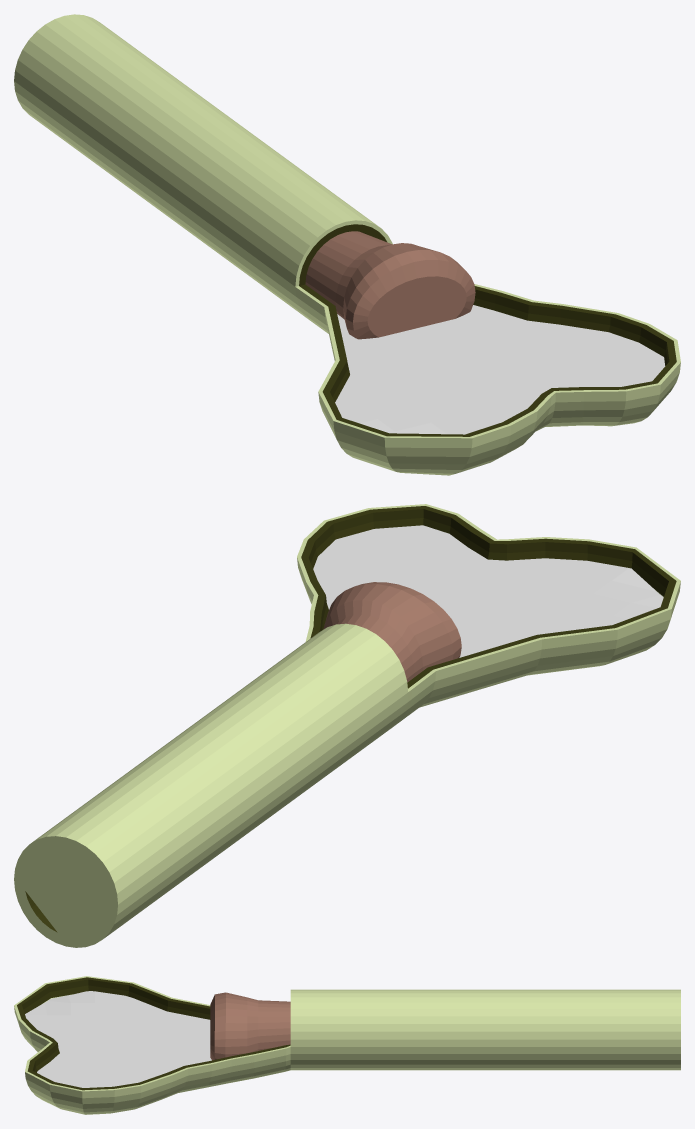
The model's file is BoneMarrow.glb.
3 renders of one model, top to bottom at view 1: azimuth 30°, elevation 25°; view 2: azimuth 150°, elevation 25°; view 3: azimuth 270°, elevation 25°, orthographic. The views are drawn at different scales.
Parts seen in each view (by area): view 1: Cylinder, Plane.001, Cylinder.001; view 2: Cylinder, Plane.001, Cylinder.001; view 3: Cylinder, Plane.001, Cylinder.001.
Part boxes in pixels (x1,y1,x2,y2): Cylinder: [14, 14, 680, 475]; Plane.001: [335, 305, 665, 434]; Cylinder.001: [305, 231, 475, 339]; Cylinder: [14, 504, 680, 947]; Plane.001: [313, 525, 663, 657]; Cylinder.001: [323, 582, 461, 682]; Cylinder: [14, 976, 680, 1114]; Plane.001: [25, 991, 211, 1087]; Cylinder.001: [210, 992, 290, 1060].
Size of the model in its own units: 6.75 by 2.02 by 16.49.
